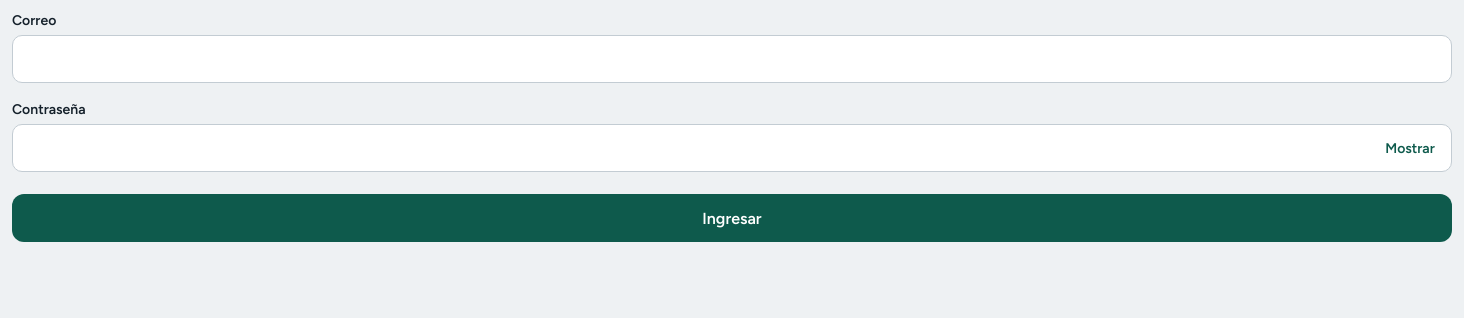
LoginForm › explains when the server cannot be reached
Type "ana@example.com" into the field labelled "Correo" at (732, 59), box [12,35,1452,83]
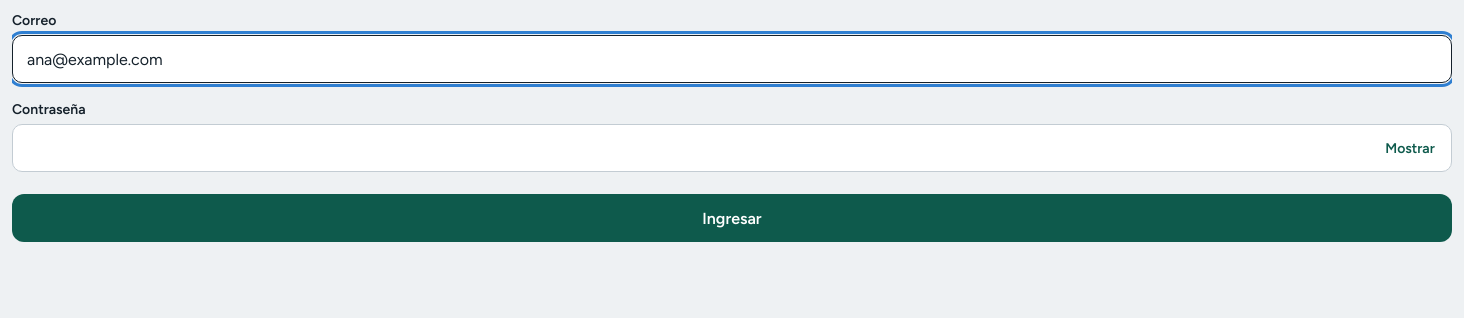
Type "contraseña-segura" into the password field labelled "Contraseña" at (732, 148), box [12,124,1452,172]
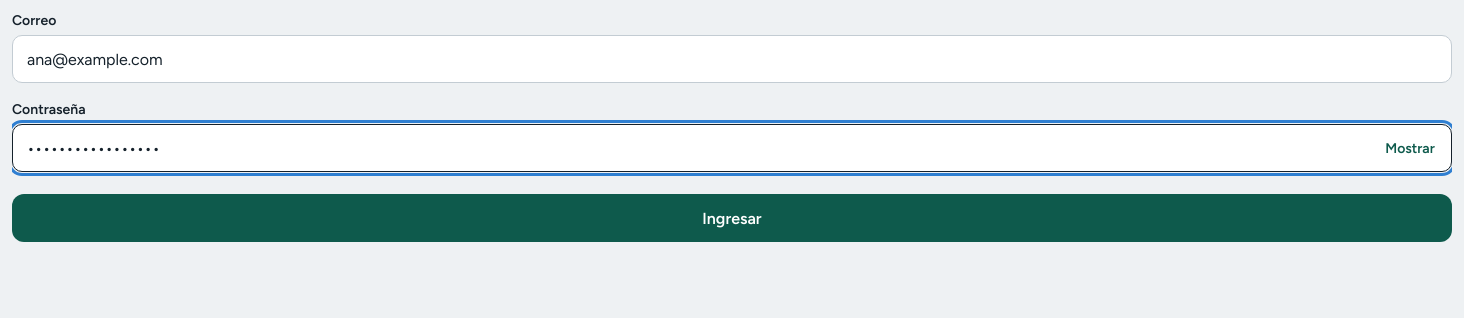
Click the button "Ingresar" at (732, 218), box [12,194,1452,242]
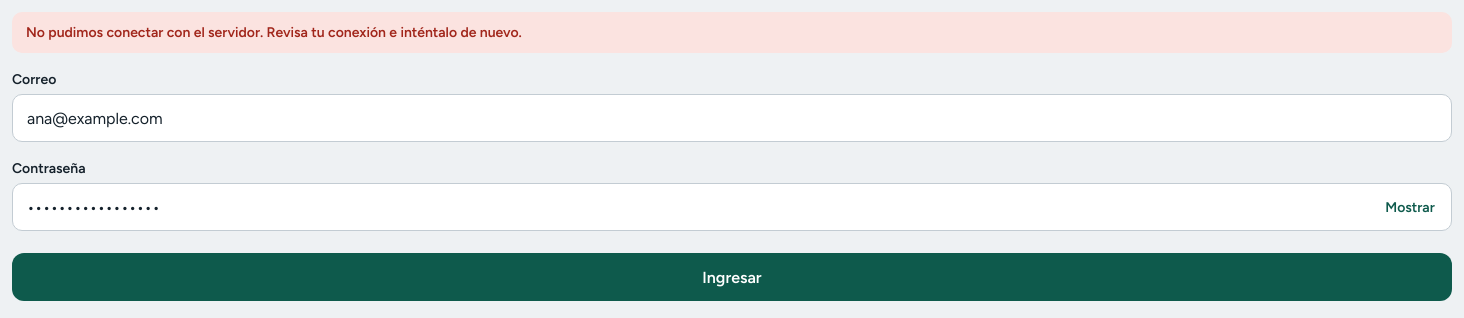
Expected: the message reads "No pudimos conectar con el servidor. Revisa tu conexión e inténtalo de nuevo.", [26,24,522,41]
